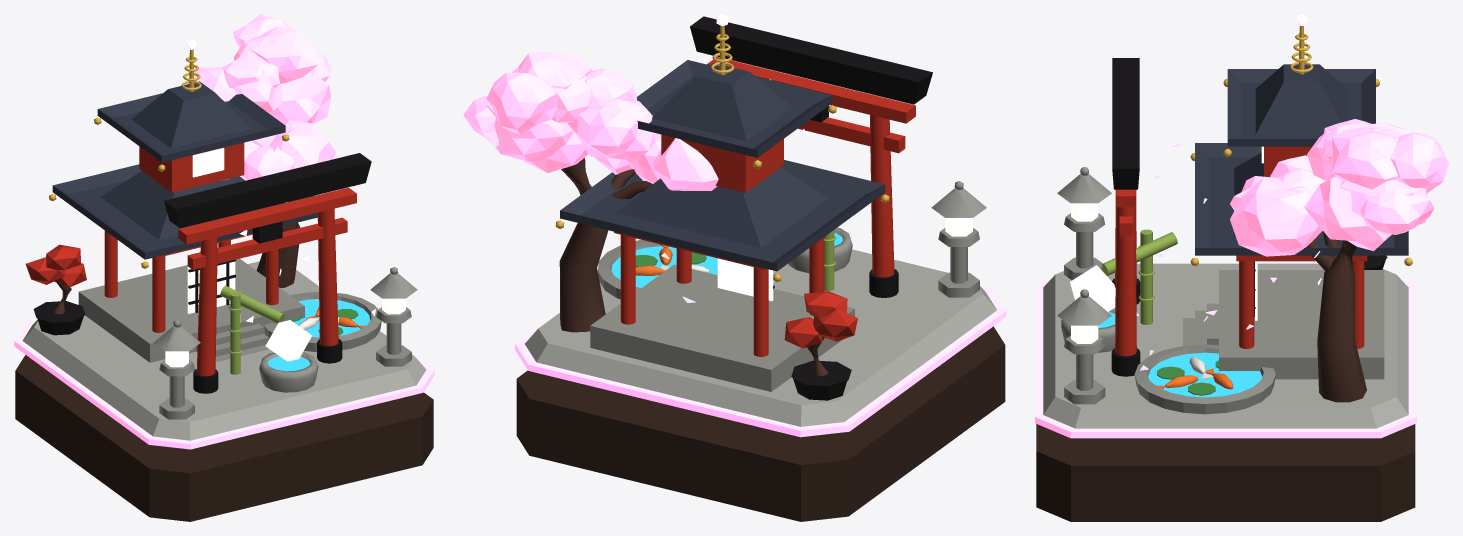
File: SakuraShrineMine_Roblox.fbx
3 renders of one model, left to right at view 1: azimuth 30°, elevation 25°; view 2: azimuth 150°, elevation 25°; view 3: azimuth 270°, elevation 25°, orthographic. The views are drawn at different scales.
Parts seen in each view (by area): view 1: DarkWood, ZenStone, VermilionLacquer, LanternStone, RoofTiles, Blossom, BlackLacquer, BlossomTrim, LanternGlow, Bamboo, PondWater, CherryBark (+2 smaller); view 2: DarkWood, RoofTiles, ZenStone, LanternStone, Blossom, VermilionLacquer, BlackLacquer, BlossomTrim, CherryBark, LanternGlow, PondWater, Gold (+1 smaller); view 3: DarkWood, ZenStone, LanternStone, Blossom, RoofTiles, VermilionLacquer, BlossomTrim, CherryBark, BlackLacquer, PondWater, Bamboo, BlossomOre (+4 smaller).
Part boxes in pixels (x1,y1,x2,y2): DarkWood: (15,355,433,521); ZenStone: (22,261,426,440); VermilionLacquer: (25,142,356,376); LanternStone: (78,258,417,419); RoofTiles: (52,81,317,259); Blossom: (194,14,336,180); BlackLacquer: (33,153,371,393); BlossomTrim: (14,271,434,449); LanternGlow: (165,148,405,367); Bamboo: (220,285,284,374); PondWater: (267,299,369,371); CherryBark: (53,222,300,314); DarkWood: (516,326,1005,521); RoofTiles: (560,60,885,271); ZenStone: (525,249,996,426); LanternStone: (590,181,986,391); Blossom: (463,52,718,190); VermilionLacquer: (614,57,915,356); BlackLacquer: (690,16,932,400); BlossomTrim: (515,282,1006,437); CherryBark: (559,158,828,376); LanternGlow: (717,218,972,300); PondWater: (611,232,842,287); Gold: (555,25,889,281); DarkWood: (1036,424,1415,521); ZenStone: (1043,263,1408,428); LanternStone: (1057,167,1384,414); Blossom: (1230,119,1448,256); RoofTiles: (1195,64,1408,255); VermilionLacquer: (1115,146,1367,356); BlossomTrim: (1035,279,1416,438); CherryBark: (1305,231,1366,402); BlackLacquer: (1111,58,1387,376); PondWater: (1098,311,1262,397); Bamboo: (1102,229,1177,324); BlossomOre: (1070,265,1115,311).
Size of the model in its own units: 1236 by 1420 by 1201.
